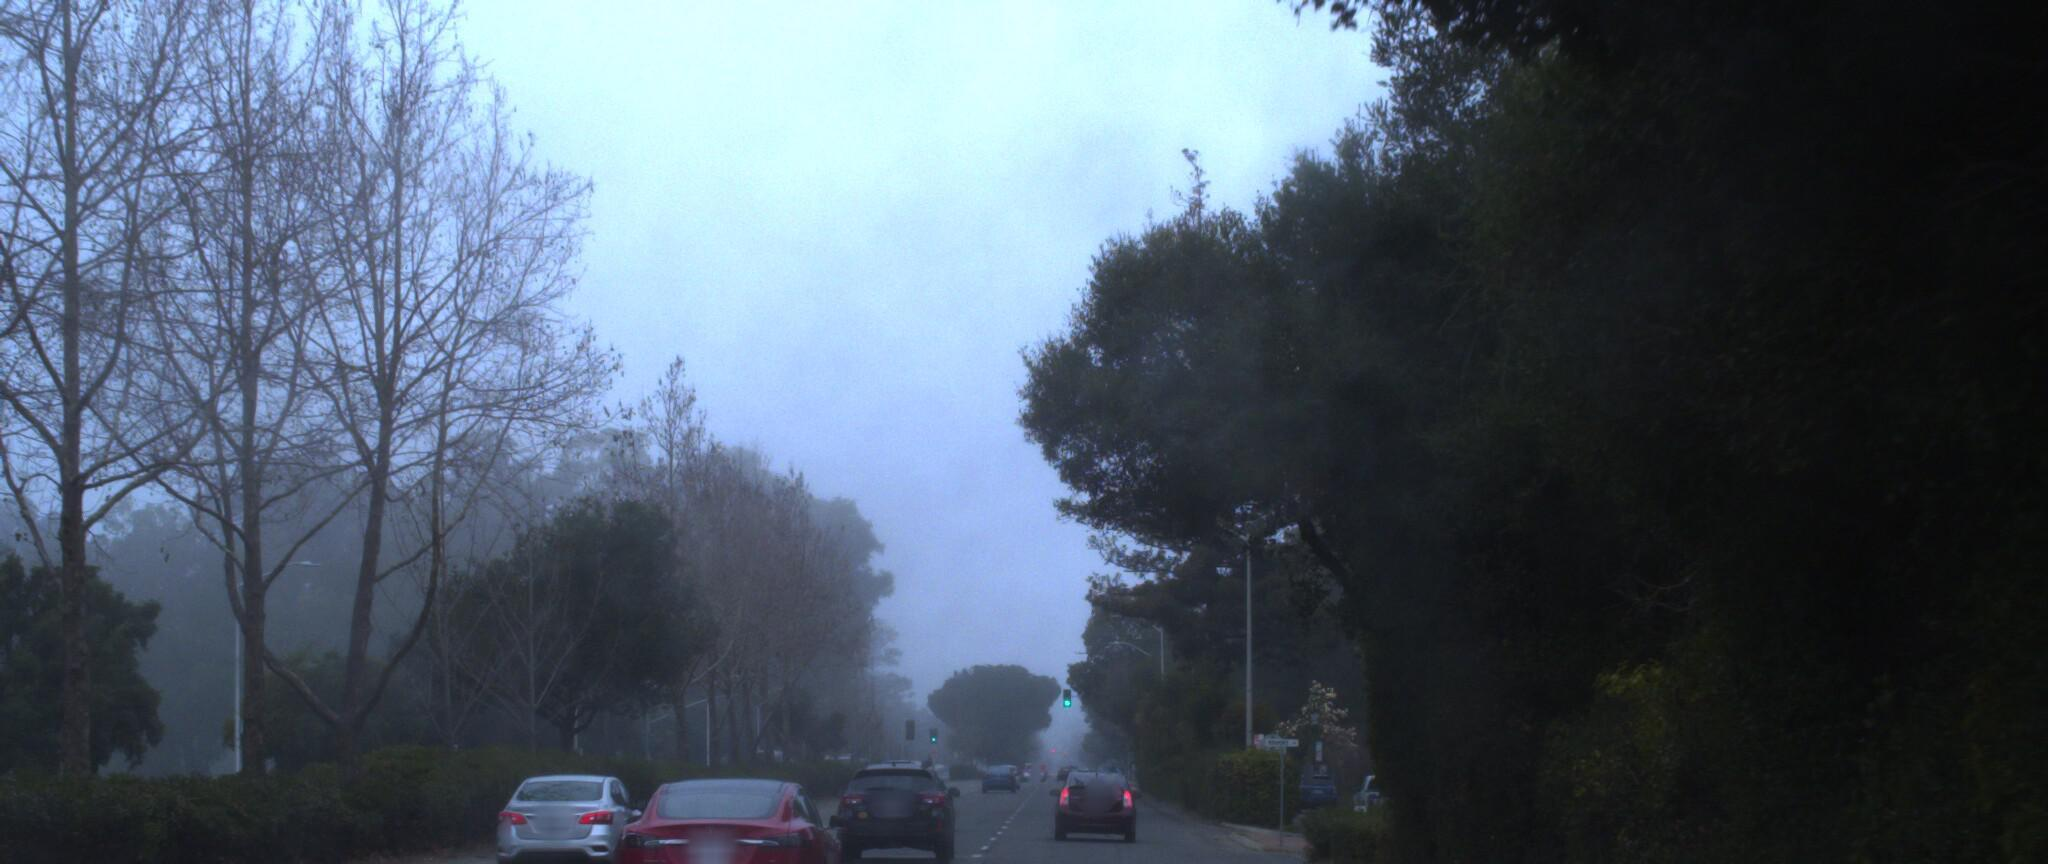car: (606, 757, 862, 864), (494, 754, 657, 864), (829, 740, 951, 848), (1055, 736, 1145, 824)
